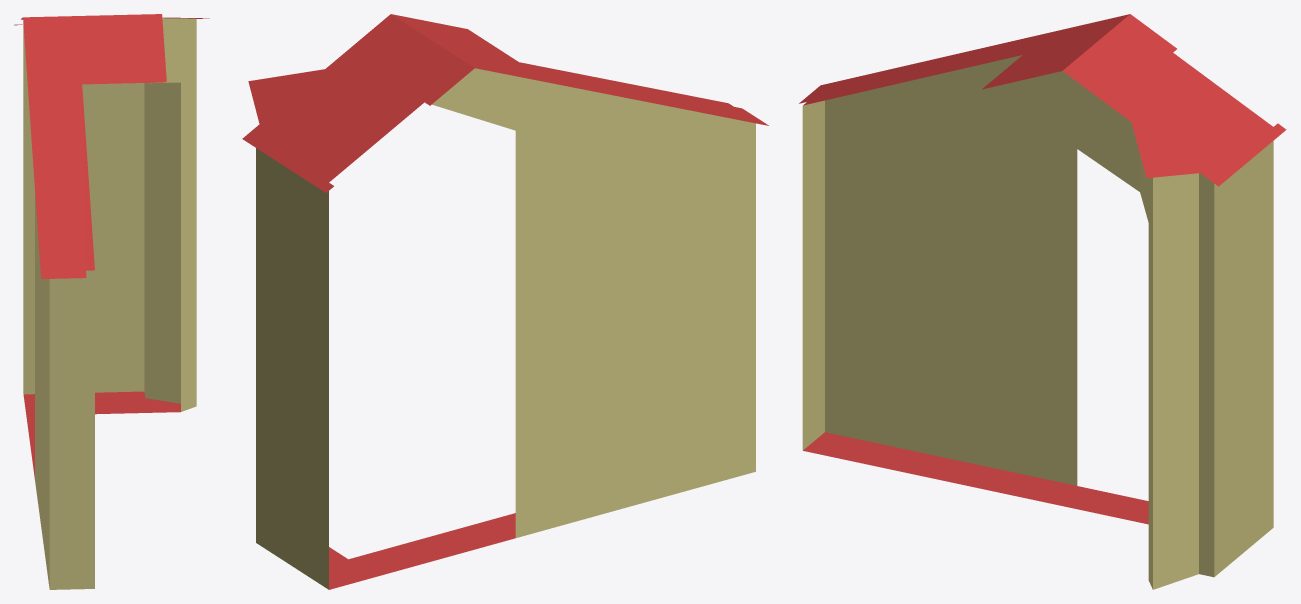
3 views of the same model, side by side, from view 1: azimuth 30°, elevation 25°; view 2: azimuth 150°, elevation 25°; view 3: azimuth 270°, elevation 25° (orthographic). The views are drawn at different scales.
Bounding box in the file's own units: 10.33 × 12.47 × 13.49.
